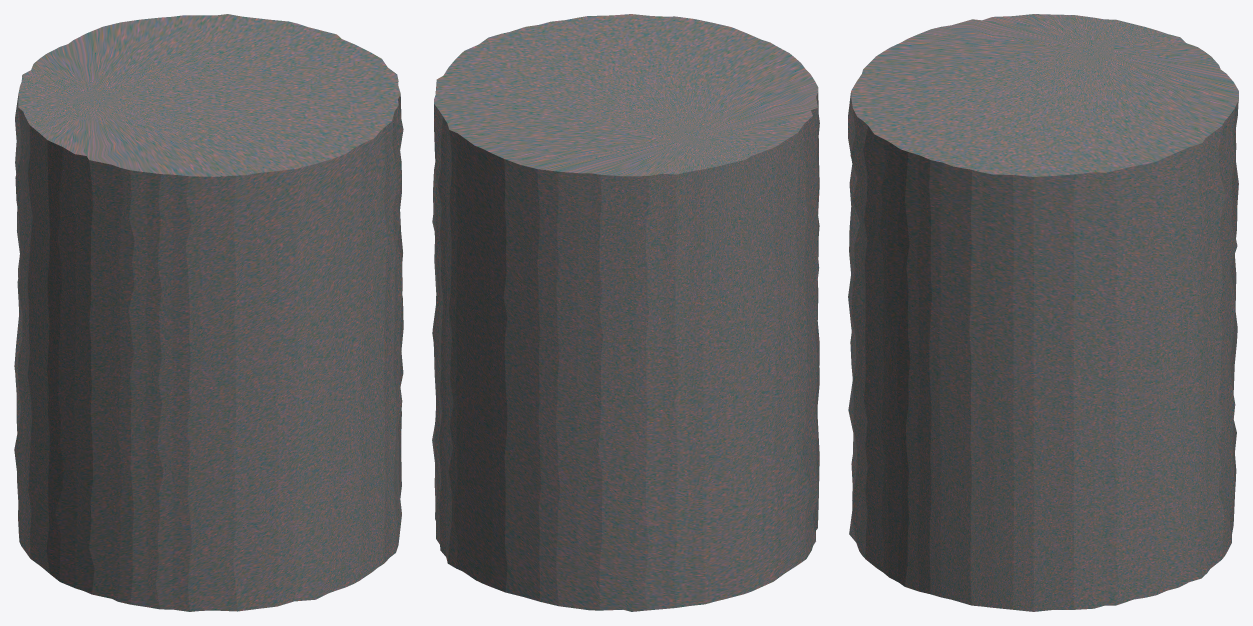
The model's file is barrel_31.dae.
The picture shows the model from 3 angles, left to right: view 1: azimuth 30°, elevation 25°; view 2: azimuth 150°, elevation 25°; view 3: azimuth 270°, elevation 25°; orthographic projection.
Parts seen in each view (by area): view 1: Cylinder; view 2: Cylinder; view 3: Cylinder.
Part boxes in pixels (x1,y1,x2,y2): Cylinder: (14, 14, 403, 611); Cylinder: (432, 14, 819, 611); Cylinder: (848, 14, 1238, 611).
Size of the model in its own units: 0.8184 by 0.8154 by 1.
1 material, 1 textured.
